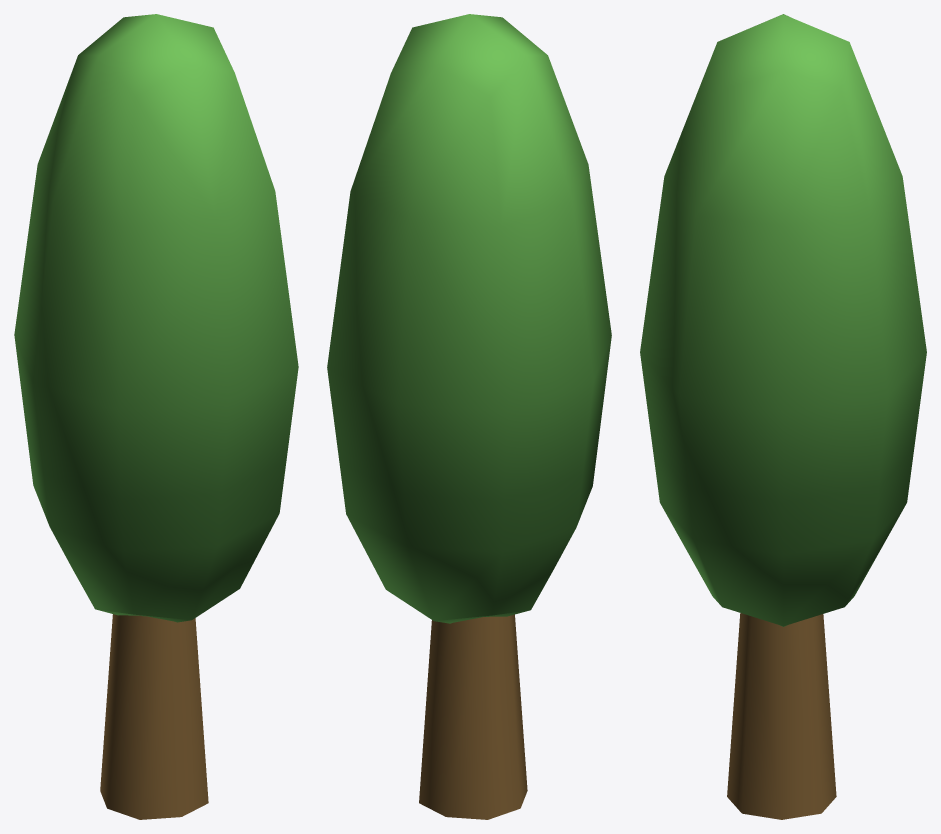
Rendered from tree2.fbx.
3 views of the same model, side by side, from view 1: azimuth 30°, elevation 25°; view 2: azimuth 150°, elevation 25°; view 3: azimuth 270°, elevation 25° (orthographic).
Visible parts, largest first — view 1: tree2; view 2: tree2; view 3: tree2.
Part boxes in pixels (x1,y1,x2,y2): tree2: (14, 14, 298, 819); tree2: (327, 14, 611, 819); tree2: (640, 14, 926, 819).
Size of the model in its own units: 96.89 by 292 by 96.89.
